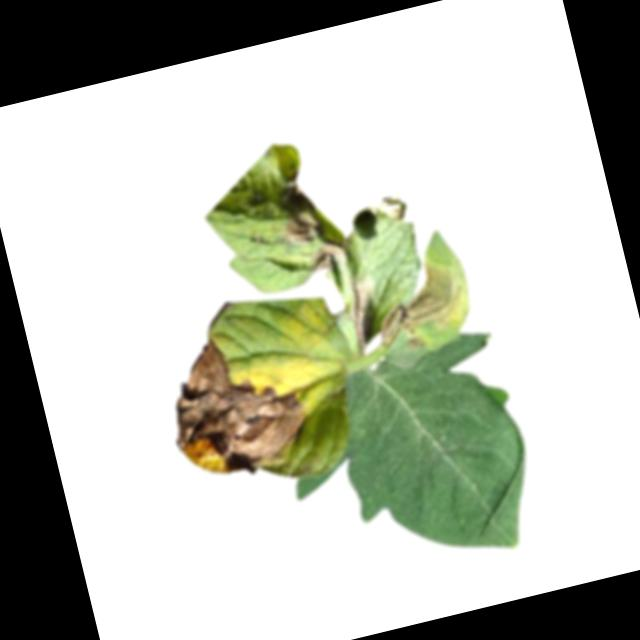Late_blight: (155, 319, 320, 489), (364, 256, 476, 350), (267, 163, 328, 253), (341, 274, 388, 354), (304, 237, 353, 275), (367, 189, 409, 225), (403, 334, 428, 353)
